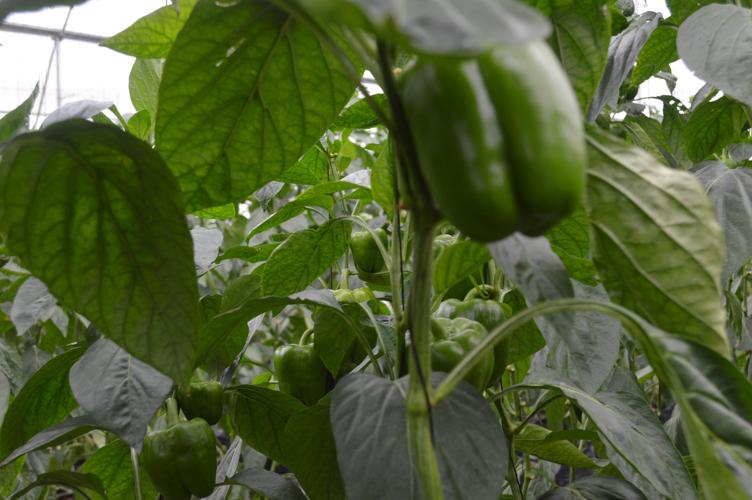BellPepper: (398, 43, 590, 243), (139, 422, 220, 498), (437, 304, 510, 380), (420, 319, 488, 393), (275, 342, 328, 401), (183, 378, 228, 423), (343, 230, 388, 272)
